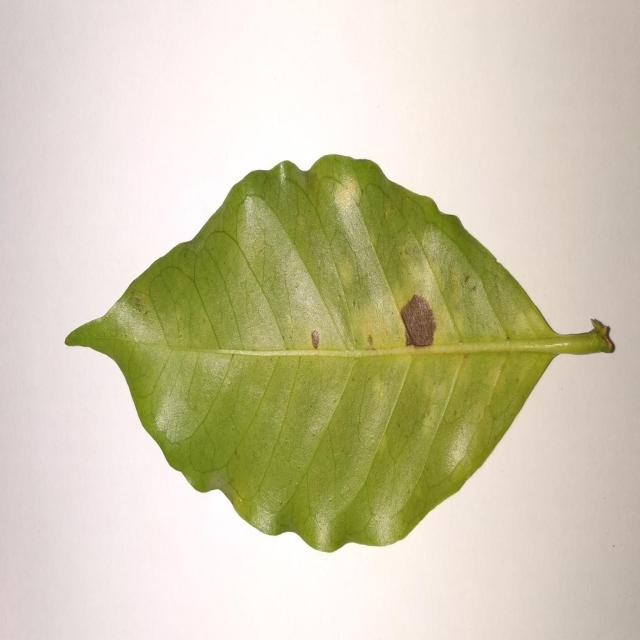Enfermedad-Mancha-de-hierro: (64, 155, 615, 555)
